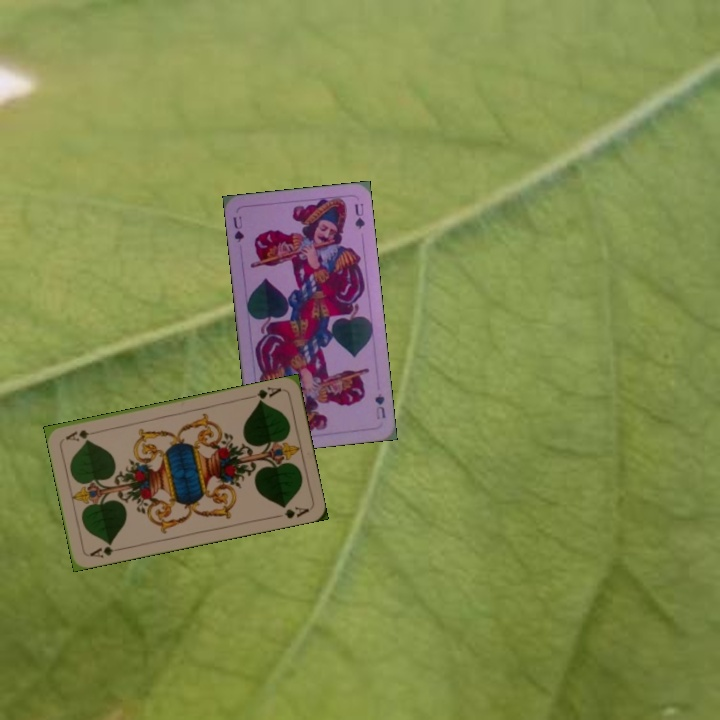GA: (245, 383, 284, 405), (86, 539, 125, 561)
GU: (229, 212, 246, 245), (371, 389, 388, 422)
